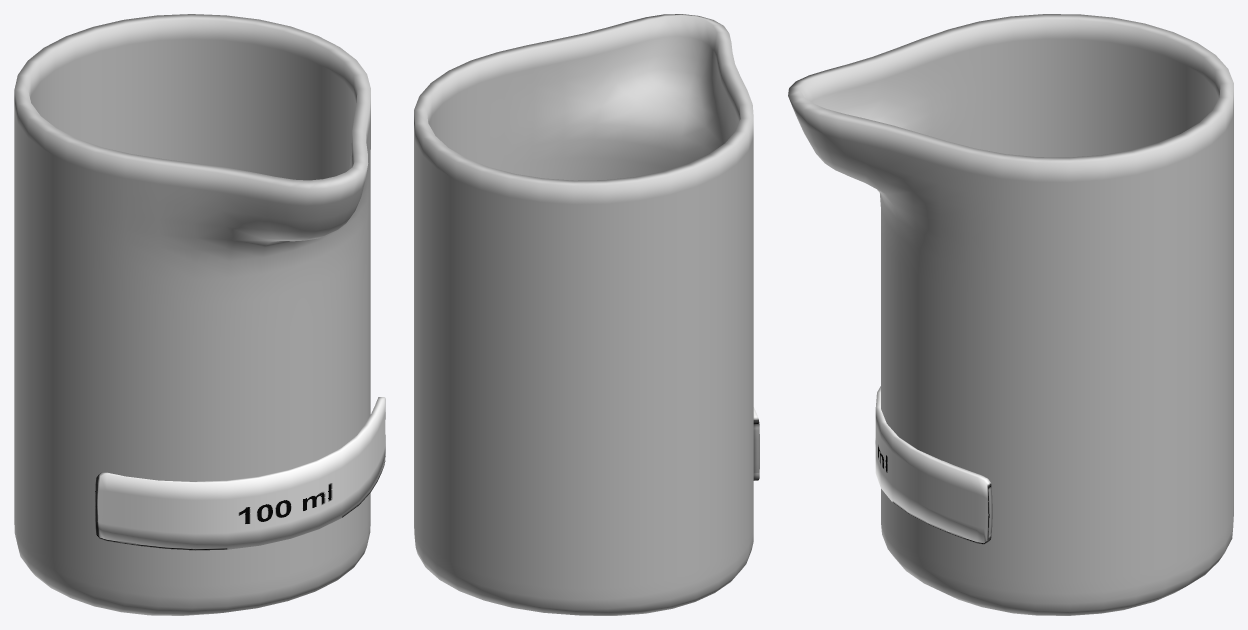
Rendered from Beaker glass 100ml.fbx.
3 views of the same model, side by side, from view 1: azimuth 30°, elevation 25°; view 2: azimuth 150°, elevation 25°; view 3: azimuth 270°, elevation 25° (orthographic). The views are drawn at different scales.
Parts seen in each view (by area): view 1: Cube.066, Cube.101; view 2: Cube.066, Cube.101; view 3: Cube.066, Cube.101.
Part boxes in pixels (left/top/right/bottom): Cube.066: left=14, top=14, right=370, bottom=615; Cube.101: left=95, top=397, right=385, bottom=550; Cube.066: left=414, top=14, right=753, bottom=615; Cube.101: left=753, top=407, right=759, bottom=480; Cube.066: left=788, top=14, right=1233, bottom=615; Cube.101: left=875, top=386, right=992, bottom=544.
Bounding box in the file's own units: 5.31 × 7.66 × 6.61.
Materials: 2 (1 with a texture image).
